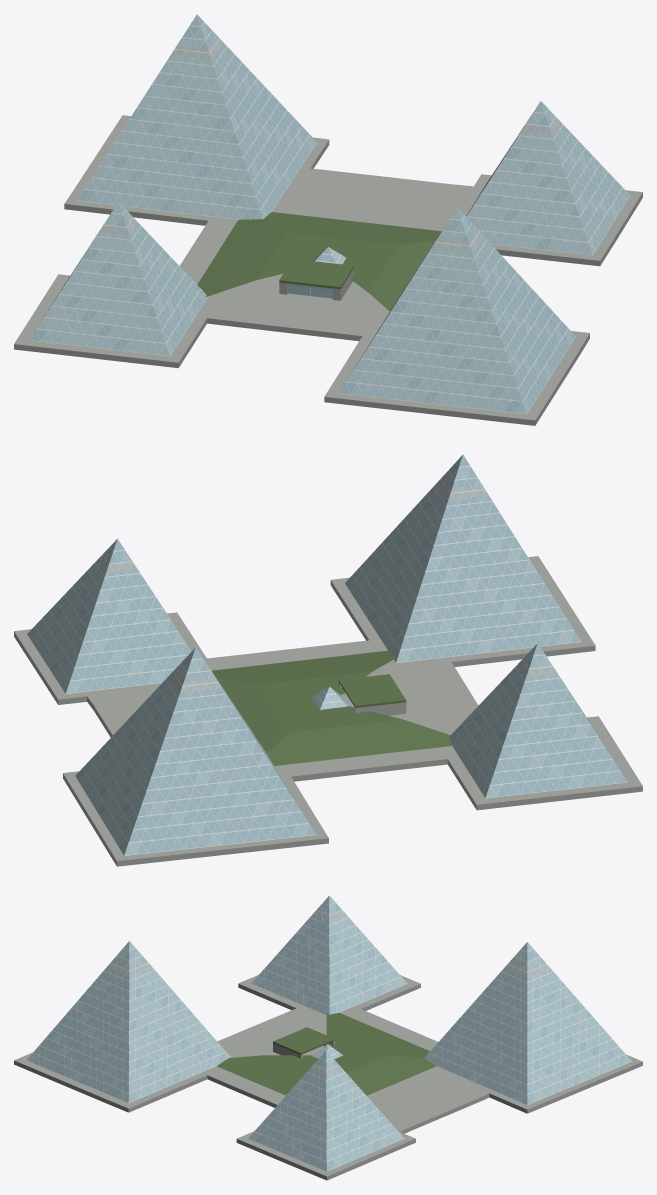
File: muttart-conservatory-near.glb
3 renders of one model, top to bottom at view 1: azimuth 30°, elevation 25°; view 2: azimuth 150°, elevation 25°; view 3: azimuth 270°, elevation 25°, orthographic. The views are drawn at different scales.
Parts seen in each view (by area): view 1: muttart-conservatory-0-glass, muttart-conservatory-0-concrete, muttart-conservatory-0-glassShade, muttart-conservatory-0-frame, muttart-conservatory-0-roof, muttart-conservatory-0-vent; view 2: muttart-conservatory-0-glassShade, muttart-conservatory-0-glass, muttart-conservatory-0-concrete, muttart-conservatory-0-frame, muttart-conservatory-0-roof, muttart-conservatory-0-vent; view 3: muttart-conservatory-0-glassShade, muttart-conservatory-0-glass, muttart-conservatory-0-concrete, muttart-conservatory-0-frame, muttart-conservatory-0-roof, muttart-conservatory-0-vent.
Part boxes in pixels (x1,y1,x2,y2): muttart-conservatory-0-glass: [37, 15, 617, 413]; muttart-conservatory-0-concrete: [14, 115, 642, 425]; muttart-conservatory-0-glassShade: [30, 15, 629, 412]; muttart-conservatory-0-frame: [29, 14, 629, 414]; muttart-conservatory-0-roof: [197, 212, 441, 311]; muttart-conservatory-0-vent: [99, 36, 560, 252]; muttart-conservatory-0-glassShade: [27, 455, 626, 854]; muttart-conservatory-0-glass: [30, 455, 617, 855]; muttart-conservatory-0-concrete: [14, 556, 642, 866]; muttart-conservatory-0-frame: [27, 455, 627, 855]; muttart-conservatory-0-roof: [212, 650, 451, 765]; muttart-conservatory-0-vent: [98, 476, 556, 692]; muttart-conservatory-0-glassShade: [33, 896, 625, 1171]; muttart-conservatory-0-glass: [27, 896, 631, 1168]; muttart-conservatory-0-concrete: [14, 975, 642, 1180]; muttart-conservatory-0-frame: [26, 895, 631, 1171]; muttart-conservatory-0-roof: [217, 1013, 436, 1095]; muttart-conservatory-0-vent: [107, 910, 549, 1076].
Size of the model in its own units: 96.67 by 24 by 111.
